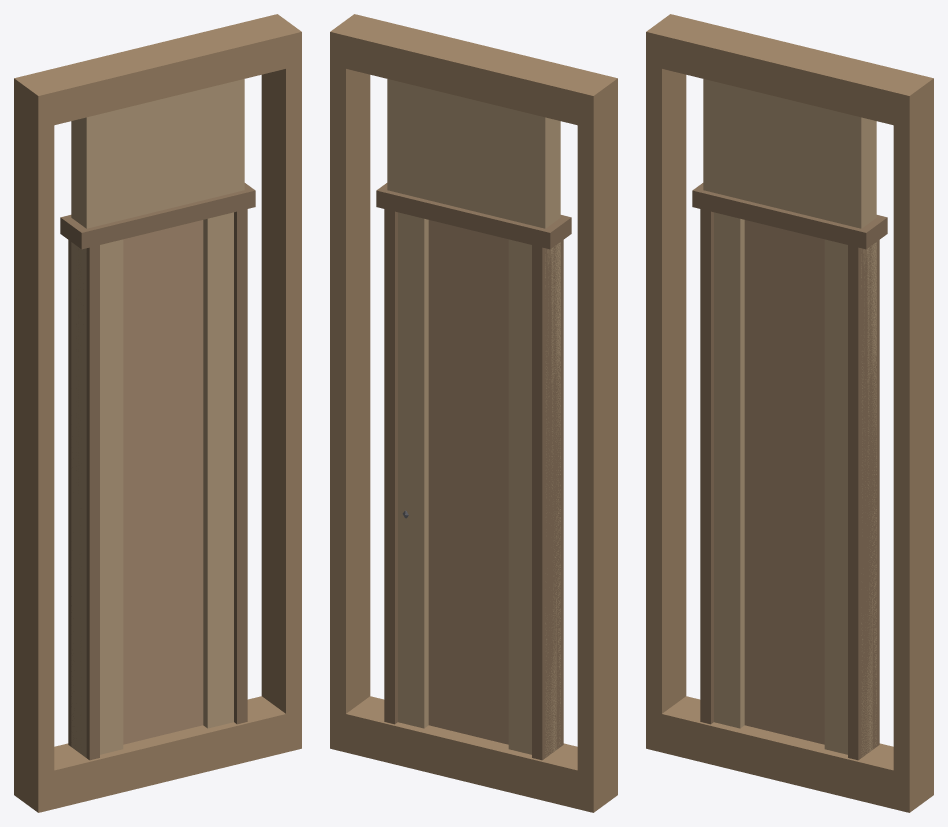
The model's file is 18-Casas_pared_puerta.glb.
The picture shows the model from 3 angles, left to right: view 1: azimuth 30°, elevation 25°; view 2: azimuth 150°, elevation 25°; view 3: azimuth 330°, elevation 25°; orthographic projection.
Visible parts, largest first — view 1: SM_ParedP_M_Pared_Madera_Poste, SM_ParedP_M_Pared_Madera_Panel, SM_ParedP_M_Pared_Puerta, SM_ParedP_M_Pared_Marco_Puerta; view 2: SM_ParedP_M_Pared_Madera_Poste, SM_ParedP_M_Pared_Madera_Panel, SM_ParedP_M_Pared_Puerta, SM_ParedP_M_Pared_Marco_Puerta; view 3: SM_ParedP_M_Pared_Madera_Poste, SM_ParedP_M_Pared_Madera_Panel, SM_ParedP_M_Pared_Puerta, SM_ParedP_M_Pared_Marco_Puerta.
Part boxes in pixels (bbox=[...]): SM_ParedP_M_Pared_Madera_Poste: bbox=[14, 14, 301, 812]; SM_ParedP_M_Pared_Madera_Panel: bbox=[71, 79, 244, 757]; SM_ParedP_M_Pared_Puerta: bbox=[76, 220, 203, 753]; SM_ParedP_M_Pared_Marco_Puerta: bbox=[60, 183, 255, 760]; SM_ParedP_M_Pared_Madera_Poste: bbox=[330, 14, 617, 812]; SM_ParedP_M_Pared_Madera_Panel: bbox=[387, 79, 560, 756]; SM_ParedP_M_Pared_Puerta: bbox=[428, 220, 555, 744]; SM_ParedP_M_Pared_Marco_Puerta: bbox=[376, 183, 571, 760]; SM_ParedP_M_Pared_Madera_Poste: bbox=[646, 14, 933, 812]; SM_ParedP_M_Pared_Madera_Panel: bbox=[703, 79, 876, 756]; SM_ParedP_M_Pared_Puerta: bbox=[744, 220, 871, 744]; SM_ParedP_M_Pared_Marco_Puerta: bbox=[692, 183, 887, 760].
Bounding box in the file's own units: 1 × 2.6 × 0.16.
